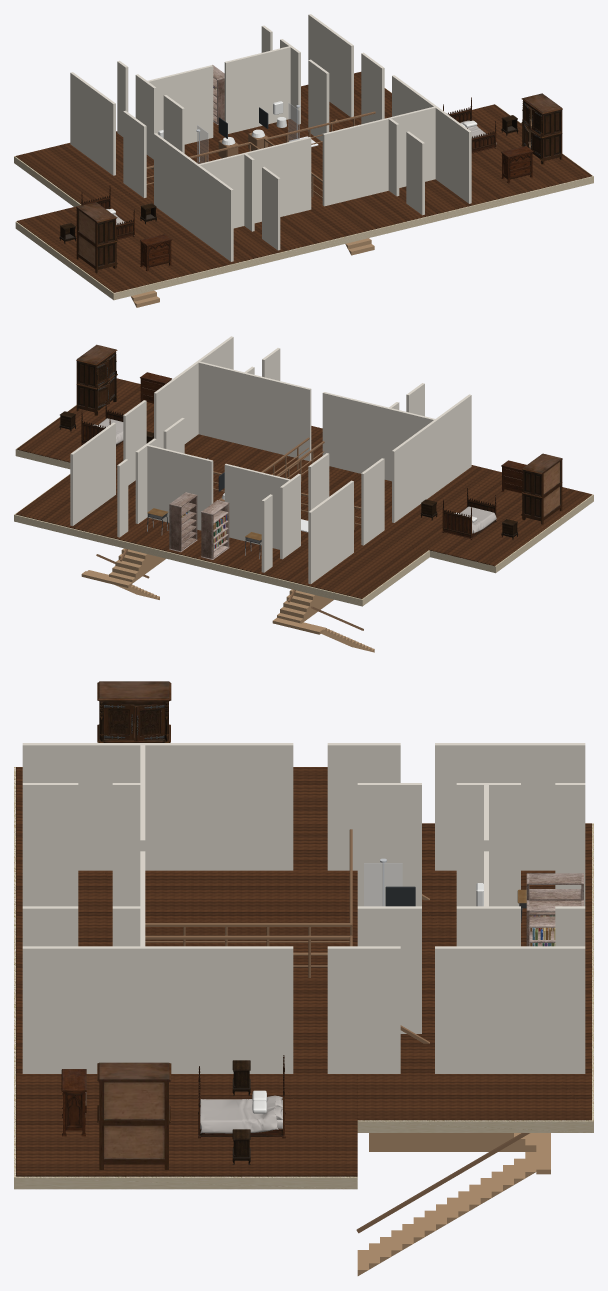
The model's file is interior_floor2_opt-BGWroGqf.glb.
3 views of the same model, one above another, from view 1: azimuth 30°, elevation 25°; view 2: azimuth 150°, elevation 25°; view 3: azimuth 270°, elevation 25° (orthographic). The views are drawn at different scales.
Parts seen in each view (by area): view 1: v15_L2_finish_front, v15_L2_finish_back, L2H8.R, L2V56_1, L2H8, H3_一层楼板_前段, L2H16.R, L2V56_1.R, L2V56_3, L2H16, L2V56_3.R, GothicCabinet_01_cabinet (+18 smaller); view 2: v15_L2_finish_front, v15_L2_finish_back, L2H8.R, L2V56_1, L2H8, L2H16.R, L2V56_3, L2V56_3.R, H3_一层楼板_后段, L2H16, L2V56_1.R, GothicCabinet_01_cabinet (+21 smaller); view 3: v15_L2_finish_front, L2V56_1.R, L2V56_1, L2V56_3.R, v15_L2_finish_back, L2V56_3, L2V56_2.R, GothicCabinet_01_cabinet.001, L2V34_3, L2V34_4, L2V34_1, H3_一层楼板_前段 (+22 smaller).
Boxes of the visible parts, x1=… form: v15_L2_finish_front: x1=16, y1=104, x2=591, y2=292; v15_L2_finish_back: x1=15, y1=72, x2=391, y2=203; L2H8.R: x1=322, y1=106, x2=435, y2=206; L2V56_1: x1=154, y1=133, x2=233, y2=261; L2H8: x1=199, y1=137, x2=311, y2=228; H3_一层楼板_前段: x1=15, y1=104, x2=593, y2=300; L2H16.R: x1=224, y1=46, x2=291, y2=133; L2V56_1.R: x1=392, y1=75, x2=471, y2=203; L2V56_3: x1=70, y1=72, x2=115, y2=175; L2H16: x1=146, y1=65, x2=213, y2=144; L2V56_3.R: x1=308, y1=14, x2=353, y2=116; GothicCabinet_01_cabinet: x1=76, y1=202, x2=117, y2=273; v15_L2_finish_front: x1=16, y1=378, x2=592, y2=566; v15_L2_finish_back: x1=15, y1=473, x2=428, y2=598; L2H8.R: x1=198, y1=361, x2=311, y2=461; L2V56_1: x1=392, y1=394, x2=471, y2=522; L2H8: x1=322, y1=392, x2=434, y2=481; L2H16.R: x1=146, y1=445, x2=213, y2=530; L2V56_3: x1=308, y1=480, x2=353, y2=583; L2V56_3.R: x1=70, y1=422, x2=115, y2=525; H3_一层楼板_后段: x1=14, y1=474, x2=429, y2=606; L2H16: x1=224, y1=463, x2=291, y2=549; L2V56_1.R: x1=154, y1=336, x2=233, y2=448; GothicCabinet_01_cabinet: x1=521, y1=453, x2=562, y2=524; v15_L2_finish_front: x1=16, y1=767, x2=357, y2=1176; L2V56_1.R: x1=22, y1=946, x2=293, y2=1073; L2V56_1: x1=22, y1=743, x2=293, y2=870; L2V56_3.R: x1=435, y1=946, x2=585, y2=1073; v15_L2_finish_back: x1=357, y1=823, x2=591, y2=1120; L2V56_3: x1=435, y1=743, x2=585, y2=870; L2V56_2.R: x1=327, y1=946, x2=400, y2=1073; GothicCabinet_01_cabinet.001: x1=97, y1=1062, x2=171, y2=1169; L2V34_3: x1=357, y1=783, x2=421, y2=906; L2V34_4: x1=456, y1=783, x2=520, y2=906; L2V34_1: x1=22, y1=783, x2=78, y2=906; H3_一层楼板_前段: x1=14, y1=767, x2=357, y2=1189.
Bounding box in the file's own units: 22.6 × 8.45 × 13.5.
Materials: 27 (18 with a texture image).
